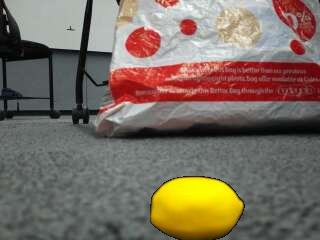lemon: (152, 176, 244, 238)
